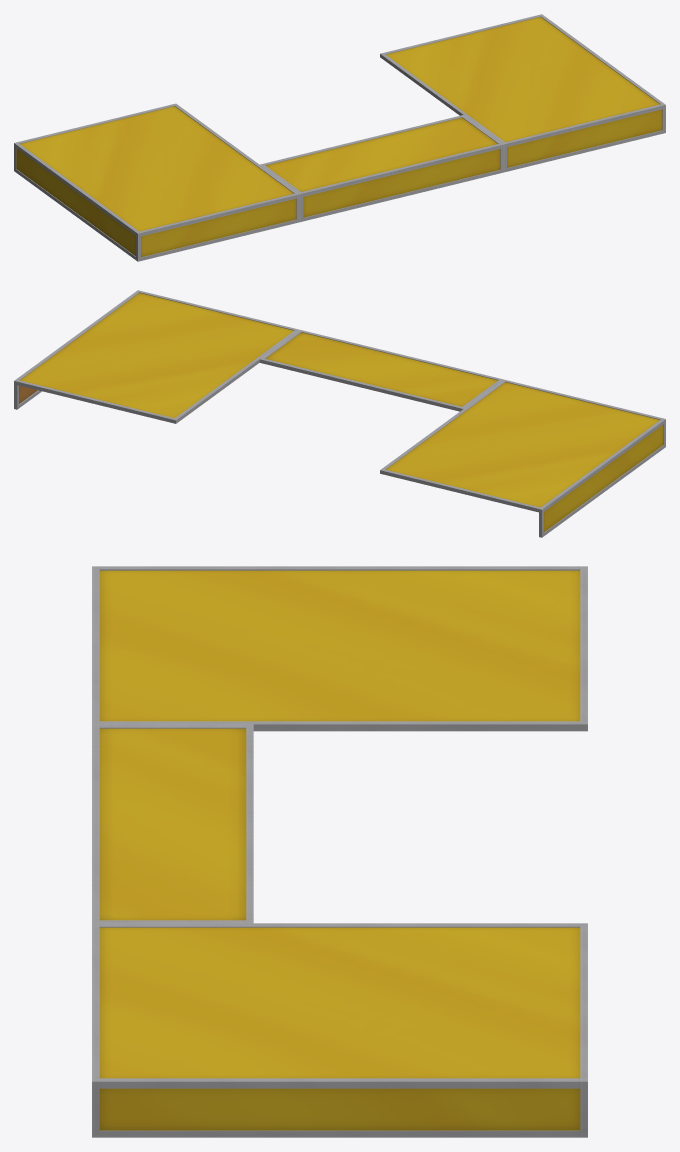
File: jsf_2P_s02_c03_t02_DX.fbx
The picture shows the model from 3 angles, top to bottom: view 1: azimuth 30°, elevation 25°; view 2: azimuth 150°, elevation 25°; view 3: azimuth 270°, elevation 25°; orthographic projection. The views are drawn at different scales.
Parts seen in each view (by area): view 1: jsf_2P_s02_c03_t02_DX; view 2: jsf_2P_s02_c03_t02_DX; view 3: jsf_2P_s02_c03_t02_DX.
Part boxes in pixels (x1=…): jsf_2P_s02_c03_t02_DX: x1=14, y1=14, x2=665, y2=261; jsf_2P_s02_c03_t02_DX: x1=14, y1=290, x2=665, y2=537; jsf_2P_s02_c03_t02_DX: x1=92, y1=566, x2=587, y2=1137.
Size of the model in its own units: 246 by 12.51 by 100.
